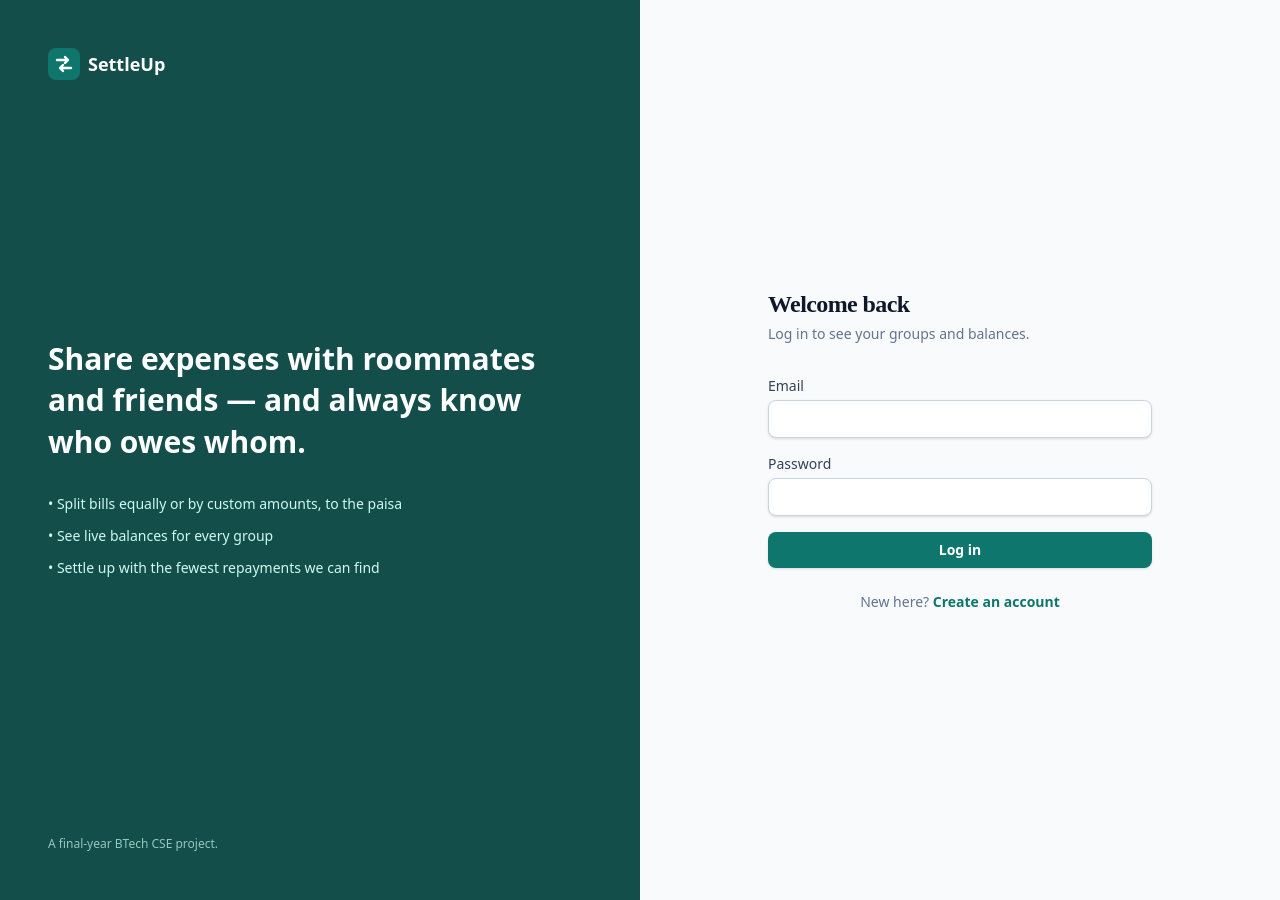
LoginPage › stores the token after a successful login
Type "sarvesh@example.com" into the field labelled "Email" at (960, 419), box [768, 400, 1152, 438]
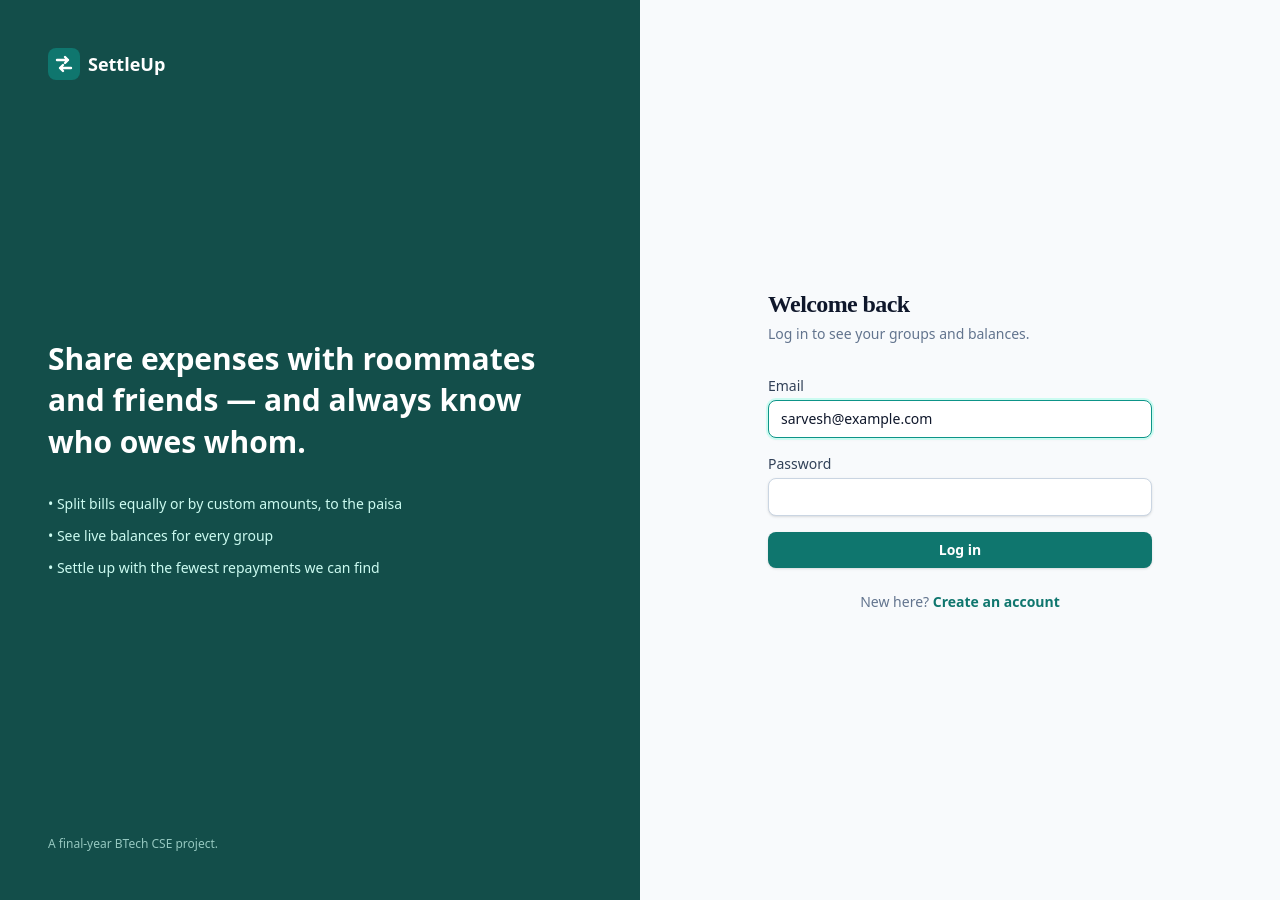
Type "Password@123" into the password field labelled "Password" at (960, 497), box [768, 478, 1152, 516]
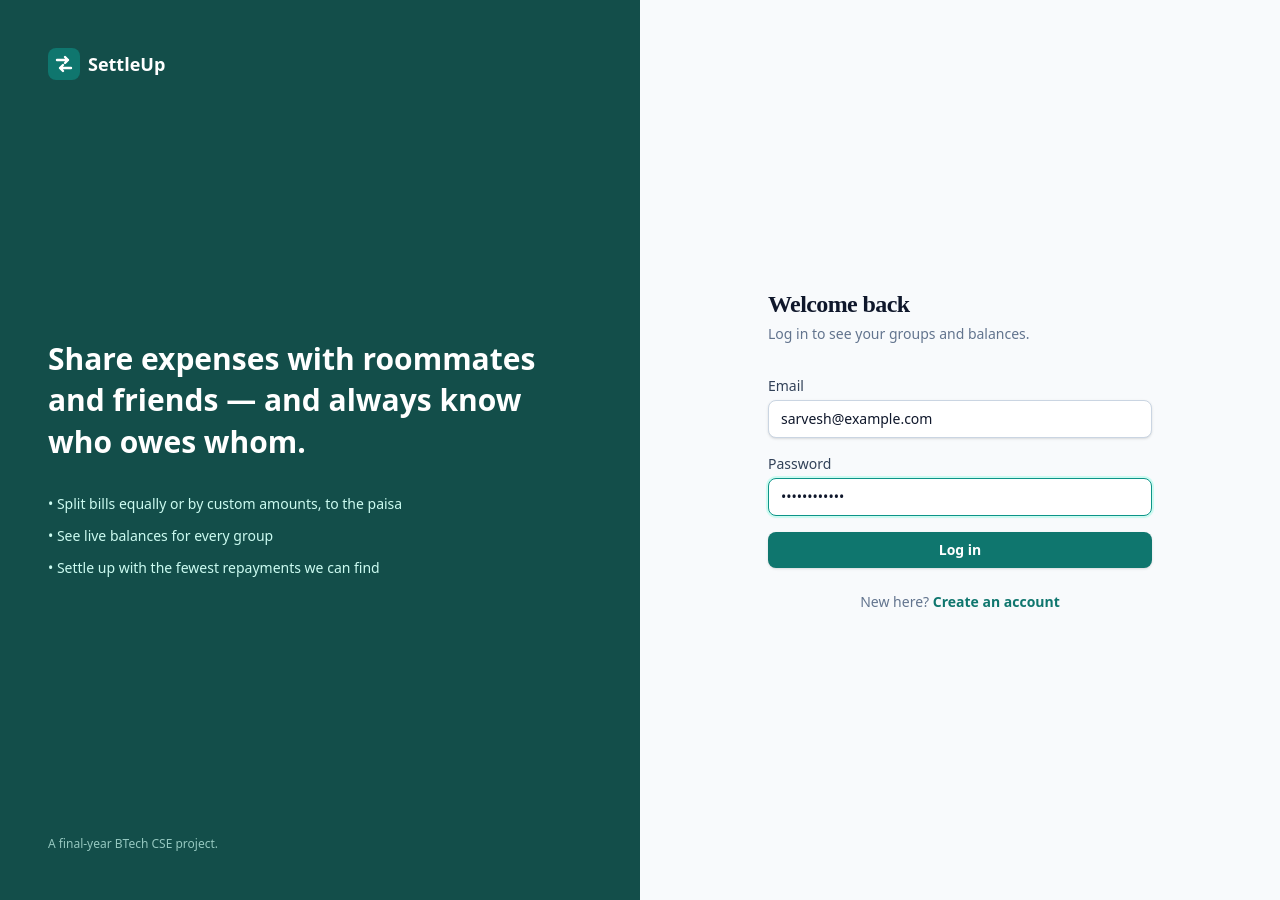
Click the button "Log in" at (960, 550), box [768, 532, 1152, 568]
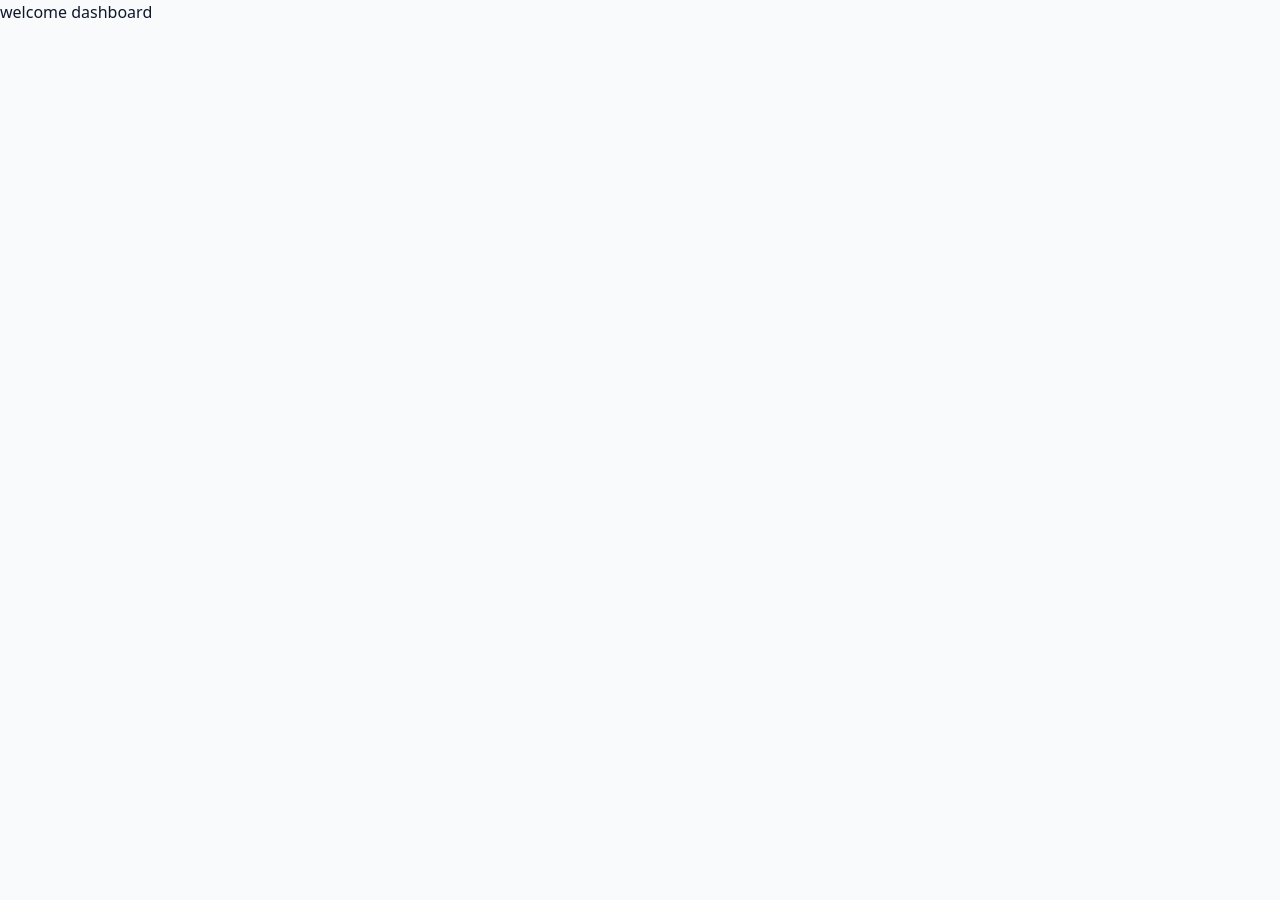
Check: the text "welcome dashboard" is shown, box [0, 1, 152, 23]
